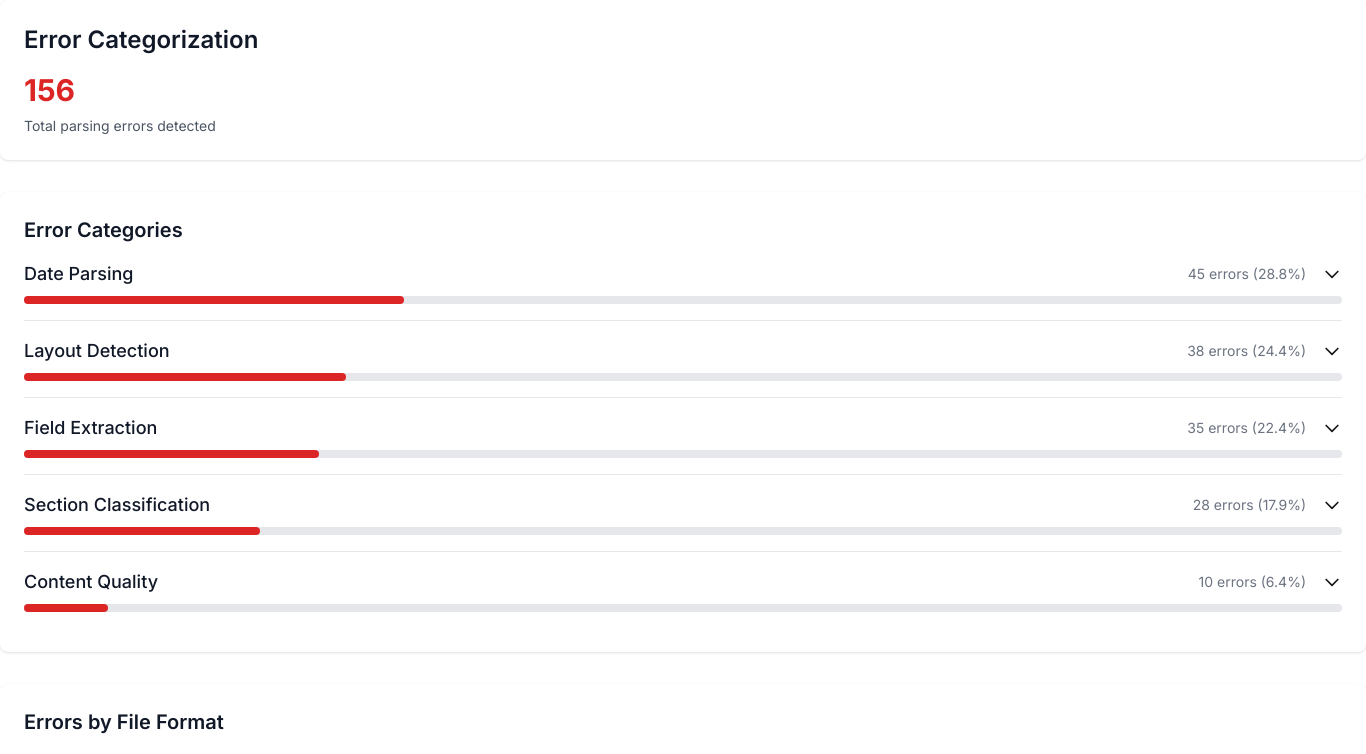
Test: ErrorCategorization › should expand category to show examples when clicked
expect the text "Date Parsing" is shown: met, box [24,260,133,288]
Click the button "Date Parsing 45 errors (28.8%)": click(79, 274) [24,260,1342,304]
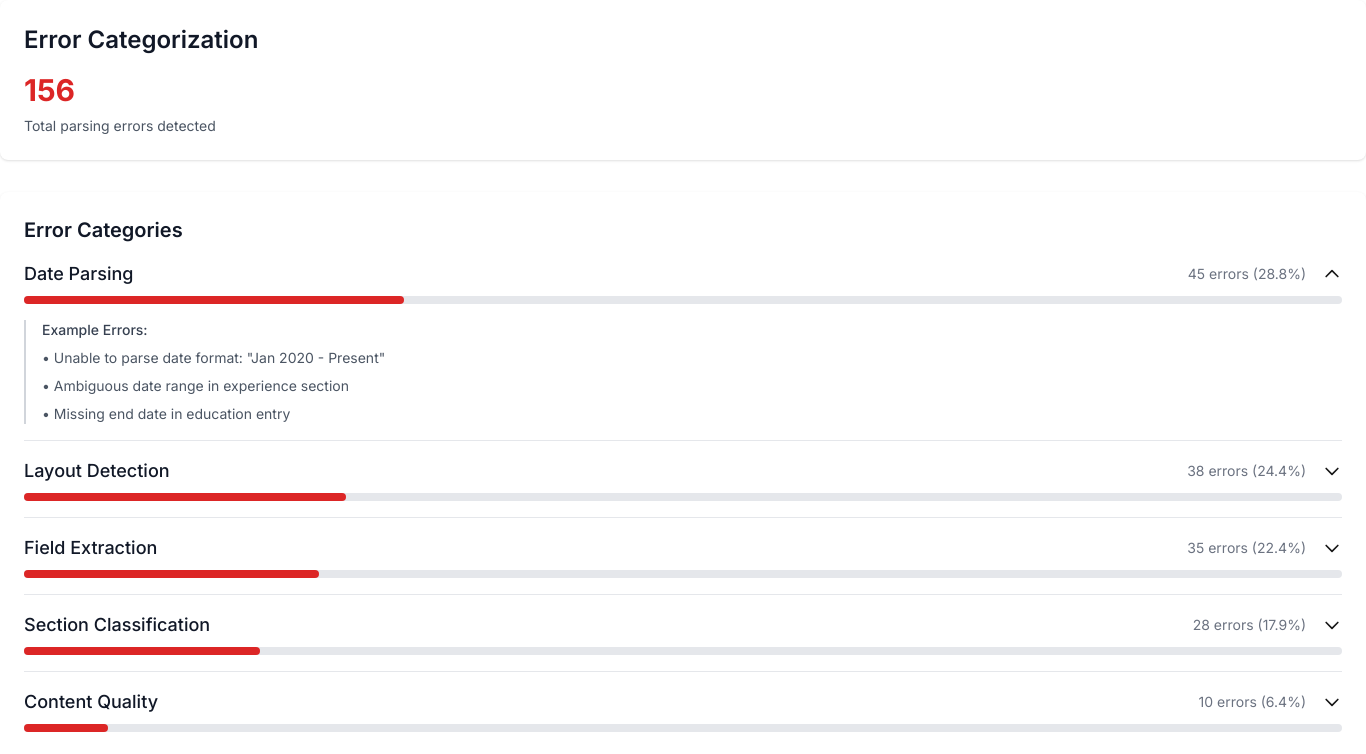
expect the heading "Example Errors:" is shown: met, box [42,321,148,338]
expect the list item "• Unable to parse date format: \"Jan 2020 - Present\"" is shown: met, box [42,349,385,366]
